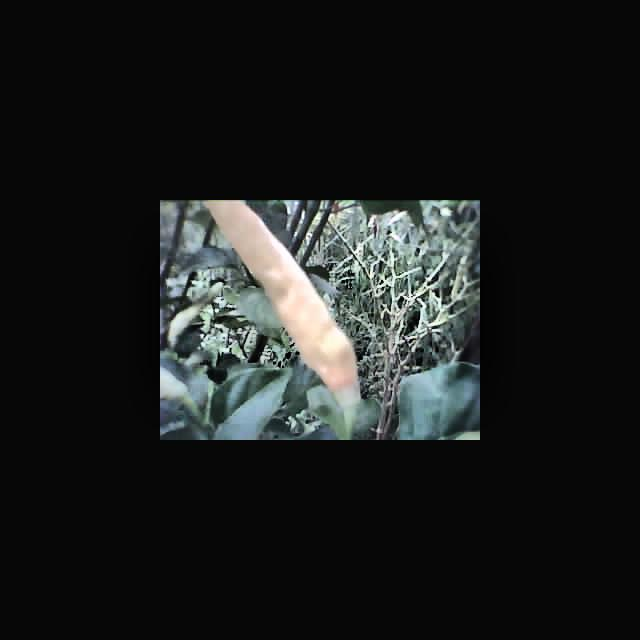Cabai: (216, 200, 361, 395)
